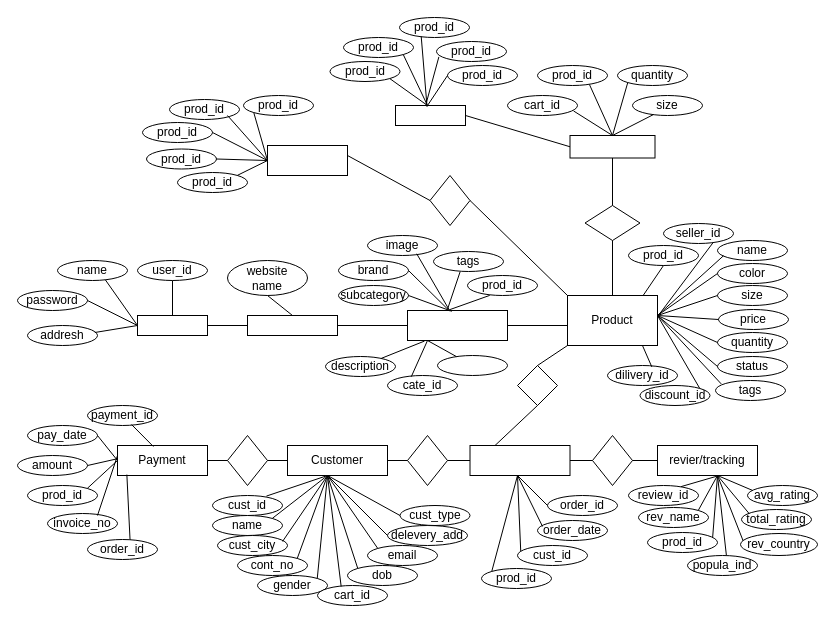
Image size: 835x623. Some labels were removed from this diagram. The centre of each missing label's shape, as x and y in pixels:
"Added" belongs at (612,222).
"Cart" belongs at (612,146).
"cate_name" belongs at (472,365).
"contain" belongs at (537,385).
"delivery" belongs at (430,115).
"has" belongs at (612,460).
"make" belongs at (427,460).
"mode" belongs at (247,460).
"Order" belongs at (519,460).
"Product Category" belongs at (457,325).
"Seller" belongs at (307,160).
"Store/project" belongs at (292,325).
"supply" belongs at (449,200).
"User" belongs at (172,325).
